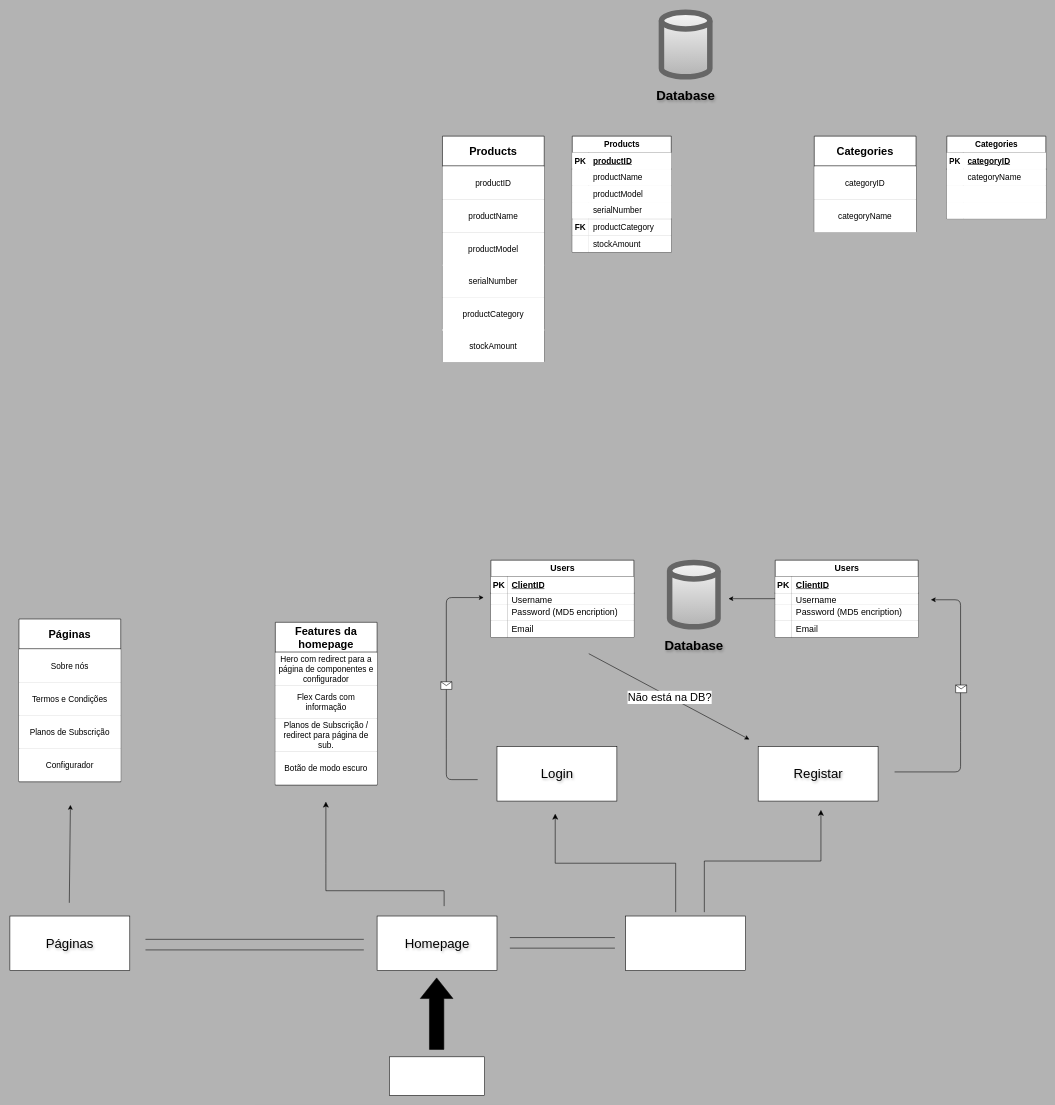
Image size: 1055x1105. Some labels were removed from this diagram. The centre of each missing label's shape, as x and y in pixels:
Cliente: (x=437, y=1075)
Login/Registar: (x=685, y=942)
